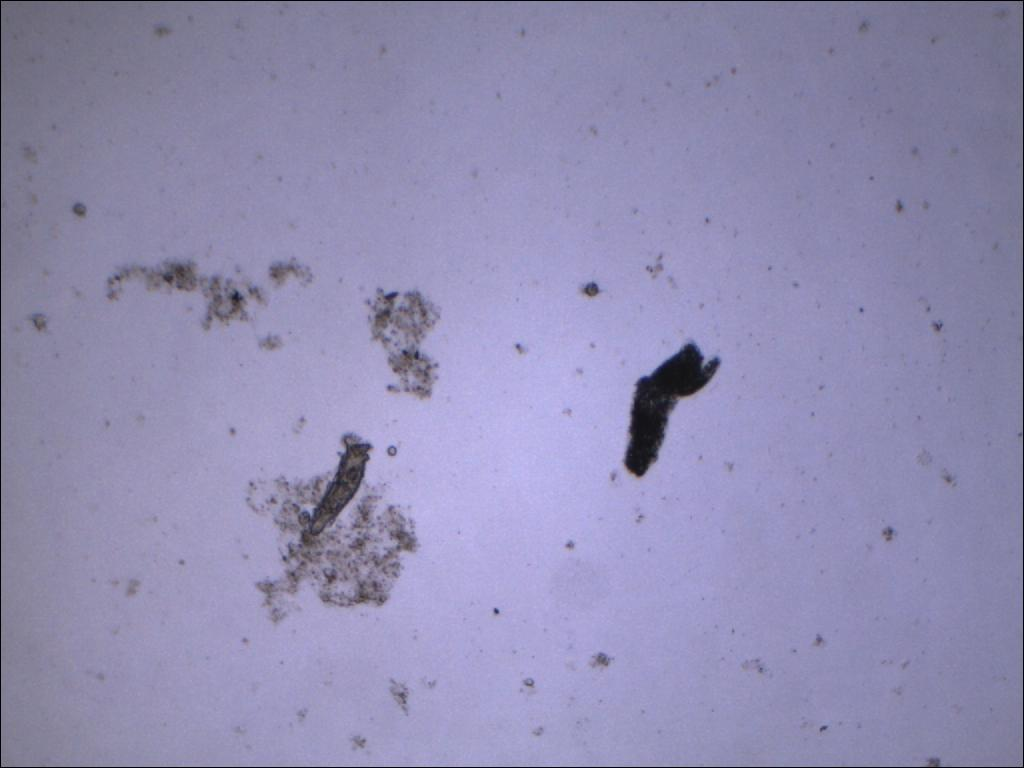amoeba: (619, 338, 727, 482)
